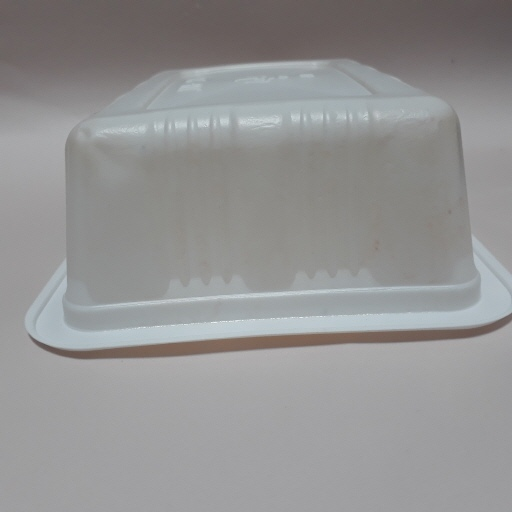Plastic_4: (25, 57, 512, 352)
